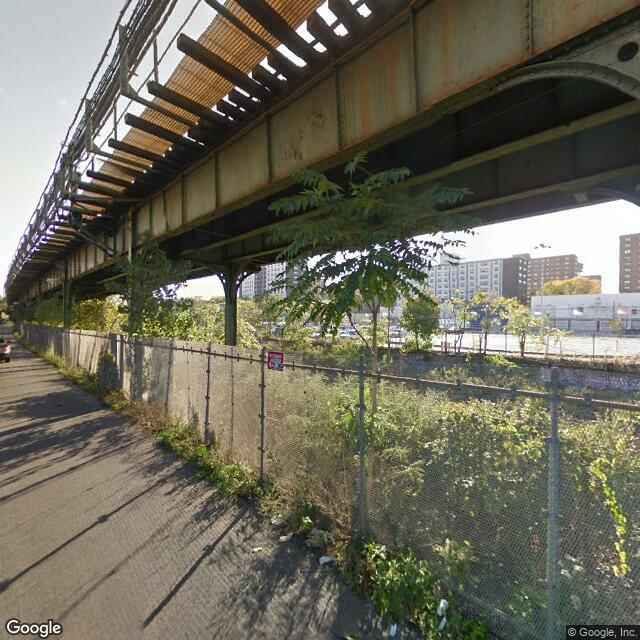litter: (434, 598, 452, 628), (318, 554, 340, 564), (388, 624, 403, 638), (270, 514, 287, 526), (279, 532, 295, 543), (251, 546, 265, 553)
